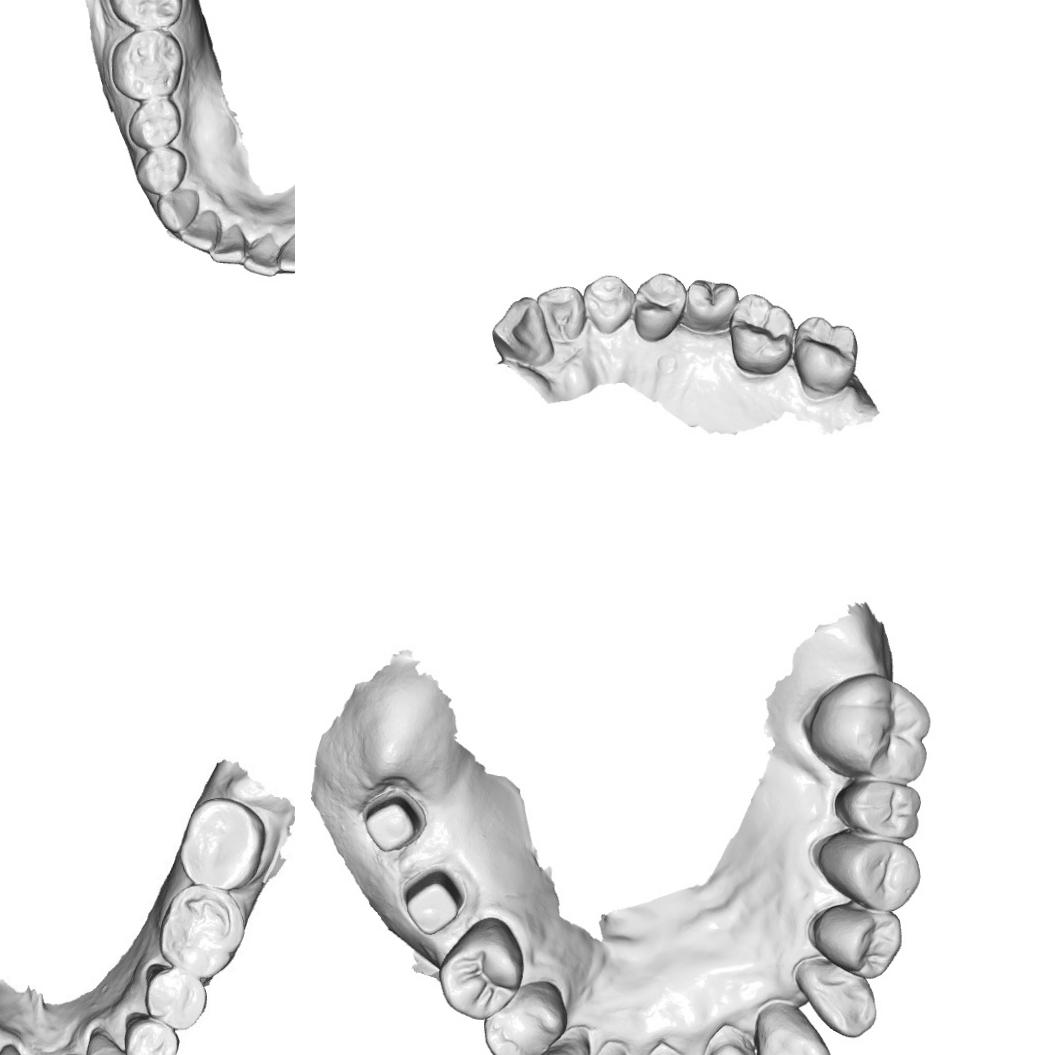abutment: (400, 861, 464, 938), (360, 786, 429, 854)
canine: (796, 960, 878, 1041), (581, 273, 635, 335), (154, 186, 201, 235), (83, 1027, 140, 1055)
incisor: (490, 295, 557, 369), (755, 1009, 833, 1055), (536, 284, 586, 346), (175, 208, 220, 254), (243, 230, 281, 278), (210, 222, 247, 266), (275, 228, 295, 275)
molar: (806, 671, 940, 787), (177, 794, 266, 890), (156, 881, 242, 977), (833, 778, 928, 841), (727, 292, 796, 376), (108, 25, 185, 100), (791, 314, 859, 398), (104, 0, 186, 27)
premolar: (439, 924, 522, 1021), (822, 835, 917, 908), (814, 902, 900, 978), (481, 985, 570, 1055), (142, 964, 210, 1032), (632, 272, 688, 344), (682, 278, 740, 335), (126, 92, 182, 150), (133, 144, 189, 196), (121, 1010, 182, 1055)
